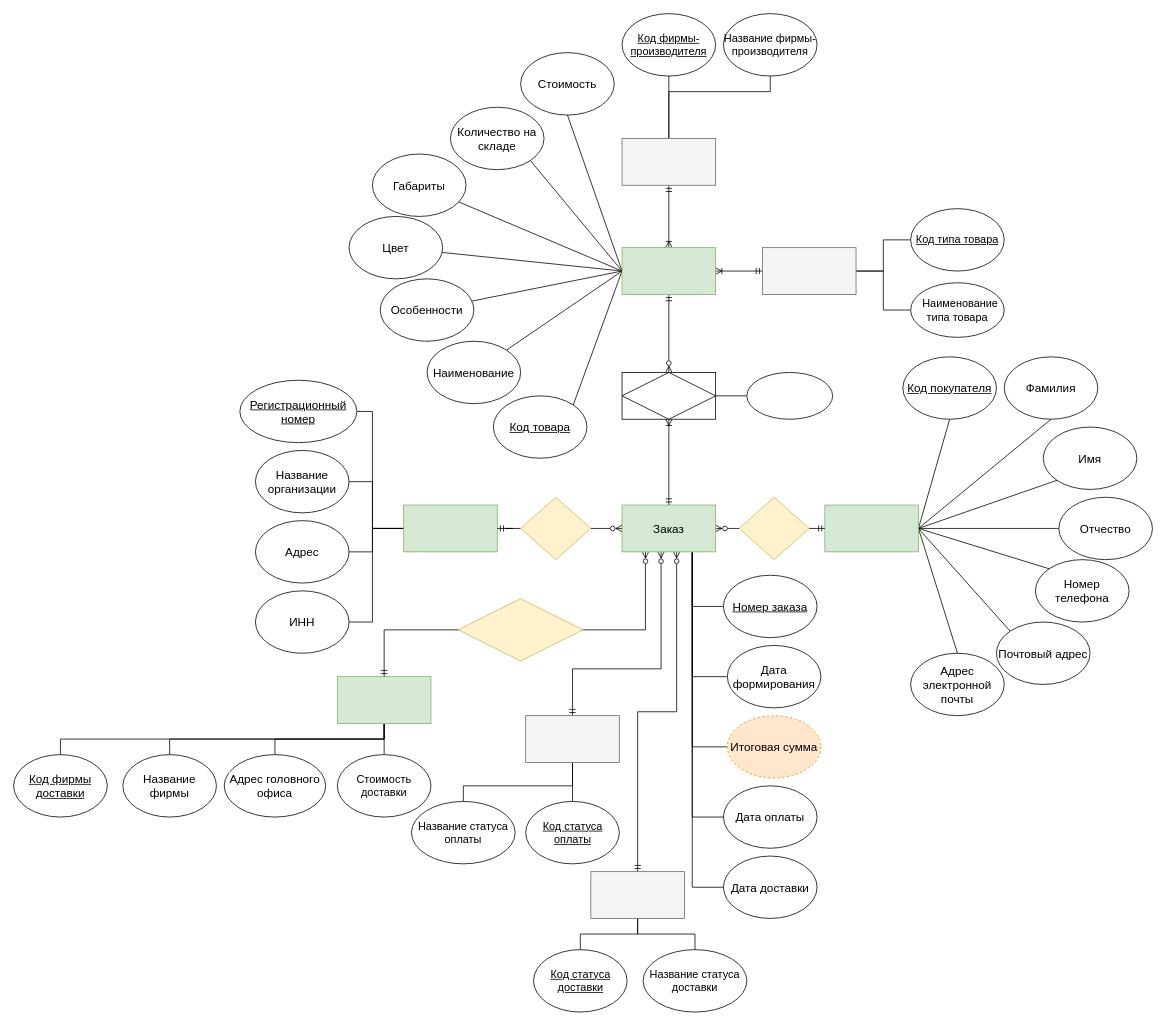
Image size: 1166x1026. Some labels were removed from this diagram. The box of each missing label's shape, as (x1, y1, x2, y2) in pixels:
Доставляет заказ покупателю: (457, 598, 583, 661)
Количество товара: (746, 372, 833, 419)
Организация-продавец: (403, 504, 497, 552)
Покупает товары: (738, 496, 809, 560)
Покупатель: (824, 504, 918, 552)
Продает товары: (520, 496, 591, 560)
Статус доставки: (590, 871, 684, 918)
Статус оплаты: (525, 715, 619, 762)
Тип товара: (762, 247, 856, 294)
Товар: (621, 247, 716, 294)
Фирма доставки: (337, 676, 431, 723)
Фирма- производитель: (621, 138, 716, 185)
